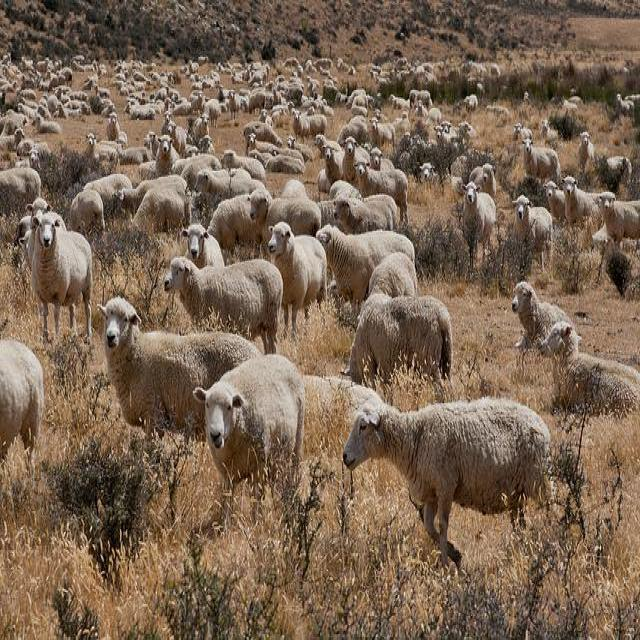Sheep: (0, 39, 639, 463), (97, 295, 264, 525), (343, 400, 563, 574), (195, 354, 306, 518), (165, 258, 284, 355), (349, 295, 453, 393), (538, 317, 639, 413), (316, 225, 415, 318), (29, 211, 93, 345), (268, 222, 329, 340), (512, 194, 552, 272)
